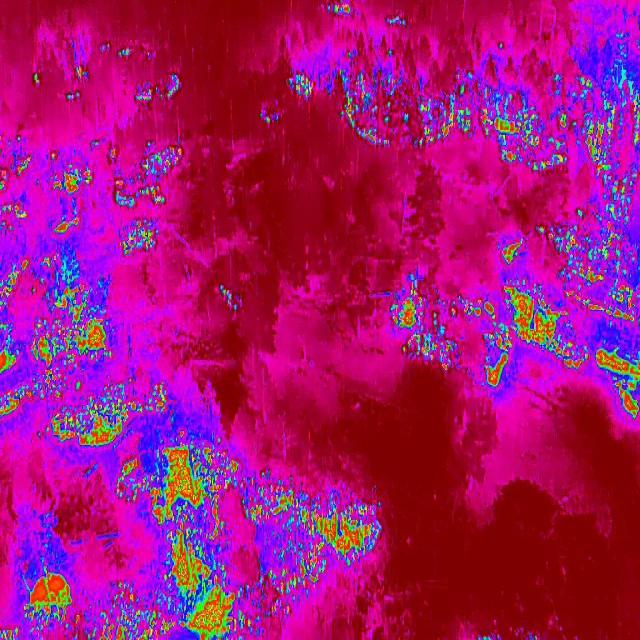fire: (338, 72, 570, 180), (236, 471, 387, 594), (0, 131, 102, 245), (108, 143, 194, 265), (42, 377, 178, 454), (30, 256, 114, 370), (147, 432, 245, 528), (572, 73, 640, 195), (504, 280, 583, 372), (85, 580, 178, 638), (532, 202, 620, 258), (162, 531, 229, 599), (590, 340, 638, 422), (175, 586, 245, 640), (22, 566, 78, 632), (60, 40, 113, 109), (400, 328, 461, 373), (607, 252, 640, 326), (481, 324, 515, 390), (130, 72, 186, 110), (112, 456, 151, 506), (446, 294, 500, 326), (556, 262, 610, 290), (32, 368, 75, 403), (390, 286, 422, 333), (0, 256, 34, 293), (0, 340, 23, 378), (498, 236, 524, 266), (118, 46, 156, 66), (289, 74, 316, 100), (322, 0, 357, 20), (215, 282, 236, 308), (260, 106, 282, 126), (0, 622, 21, 640), (384, 13, 409, 28), (32, 70, 42, 88)
